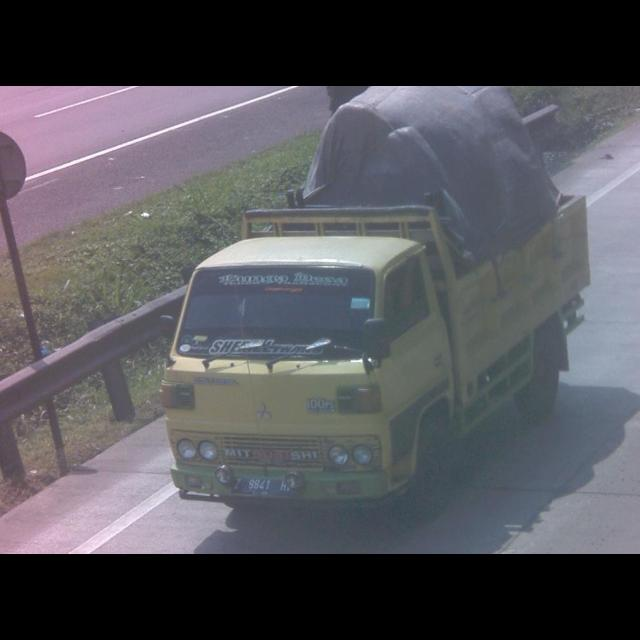plate: (228, 472, 294, 498)
